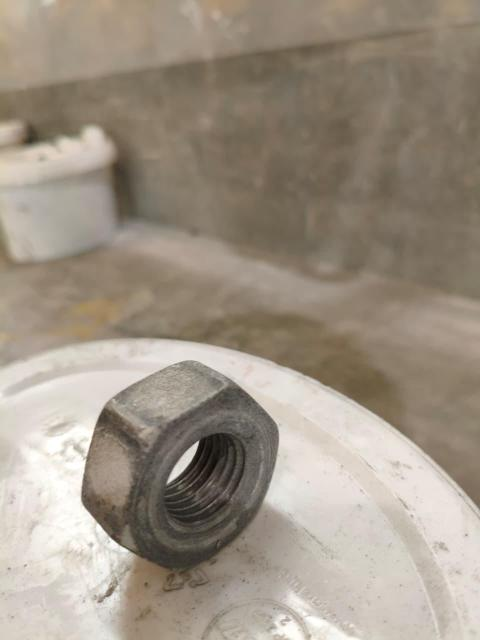Metal: (81, 360, 280, 573)
